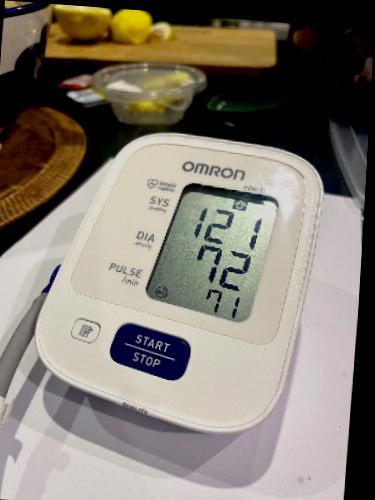bpm: (139, 166, 286, 327)
